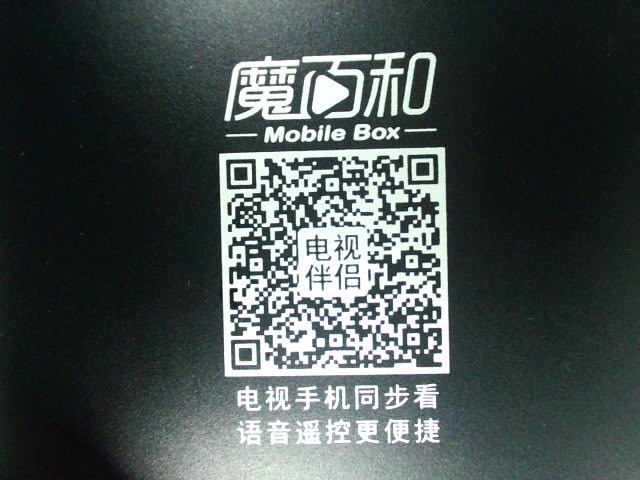AZ_MobileBox: (210, 46, 457, 447)
